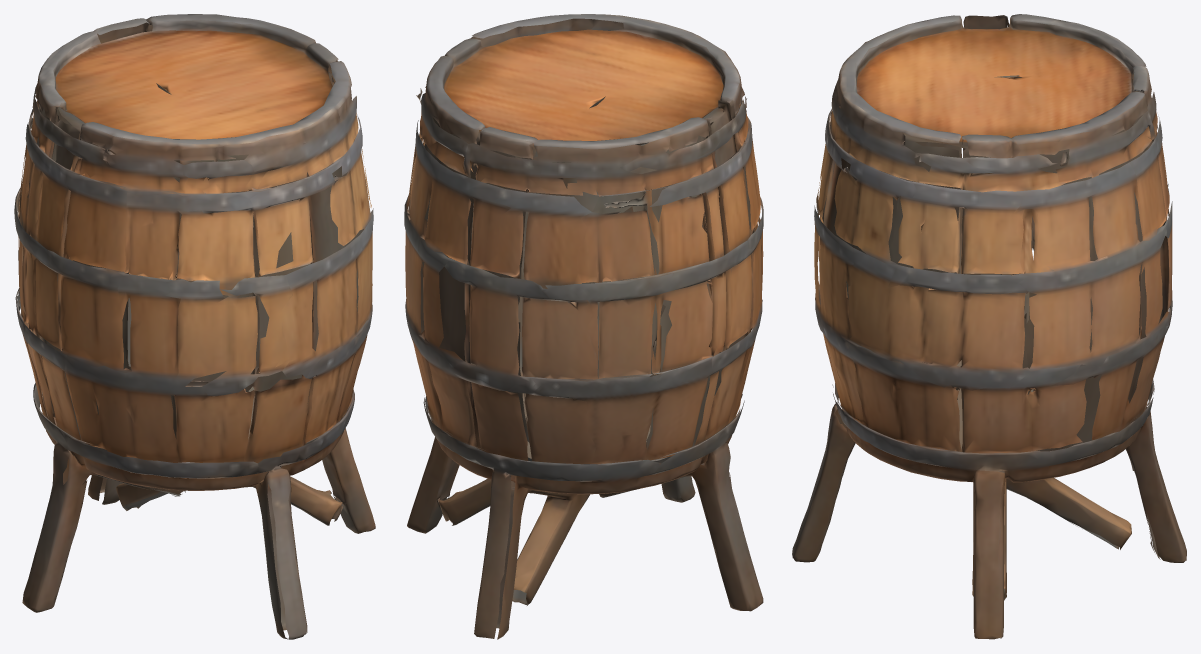
The model's file is prop_barrel.glb.
3 views of the same model, side by side, from view 1: azimuth 30°, elevation 25°; view 2: azimuth 150°, elevation 25°; view 3: azimuth 270°, elevation 25° (orthographic).
Parts seen in each view (by area): view 1: world; view 2: world; view 3: world.
Part boxes in pixels (x1=…): world: x1=14, y1=14, x2=375, y2=639; world: x1=404, y1=14, x2=763, y2=639; world: x1=792, y1=14, x2=1186, y2=639.
Bounding box in the file's own units: 0.7368 × 1 × 0.743.
Materials: 1 (1 with a texture image).
